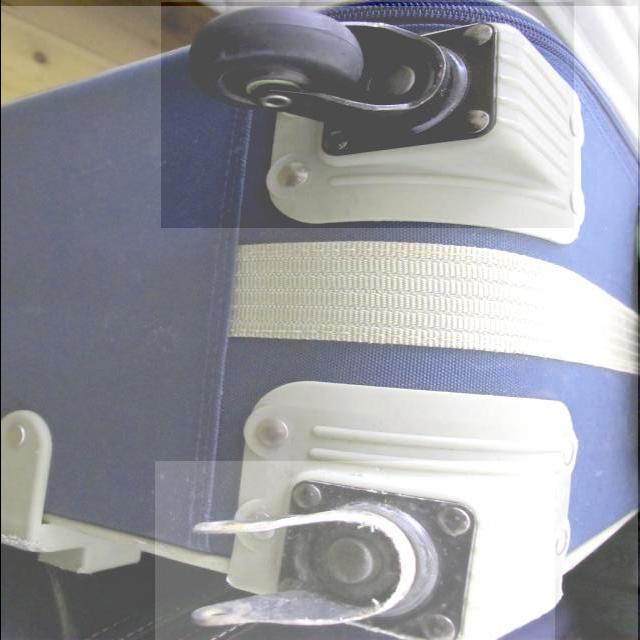Damage-bag: (193, 484, 472, 640)
